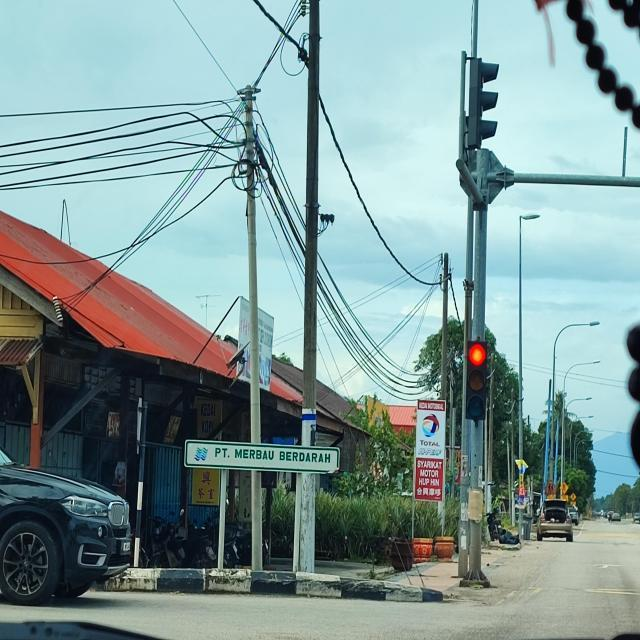red_light: (464, 340, 488, 420)
